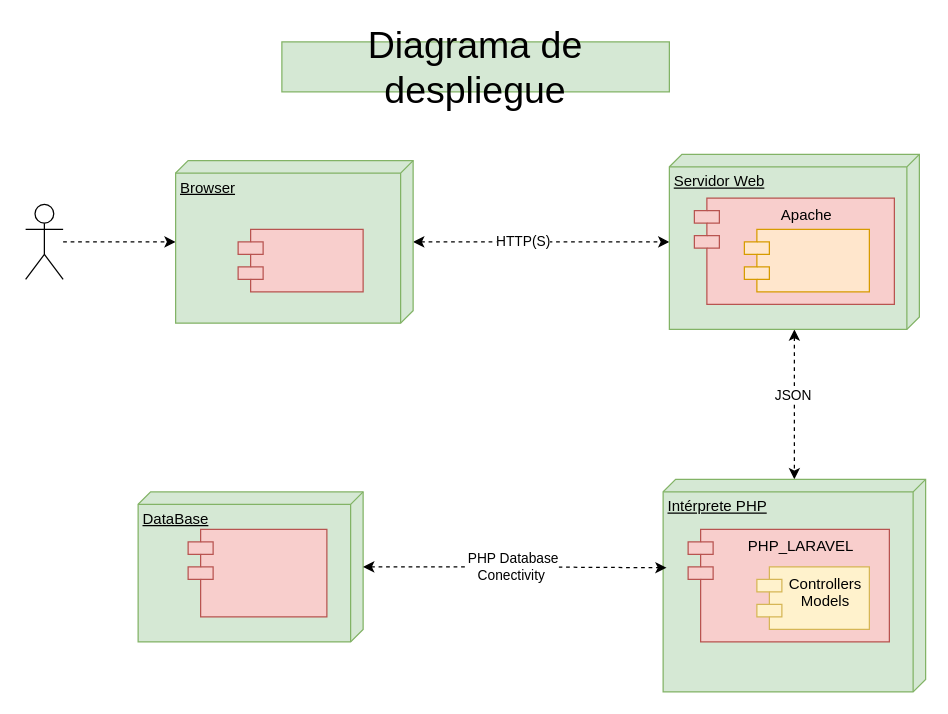
Some shapes in this 948 by 714 pixel diagram are drawn without their labels. Here are the shapes that lost their labels. From the top down, the centre of each, then its label:
[43,241]: Cliente
[300,260]: Firefox
[806,260]: mod_php
[257,572]: MySQL
